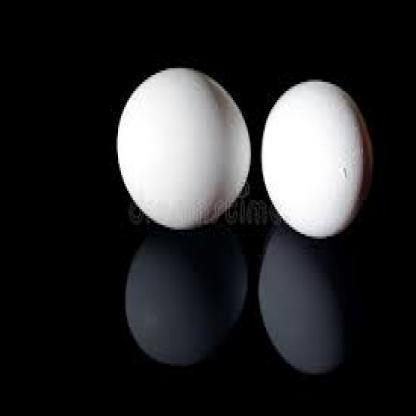egg: (115, 66, 252, 232), (261, 79, 374, 240)
